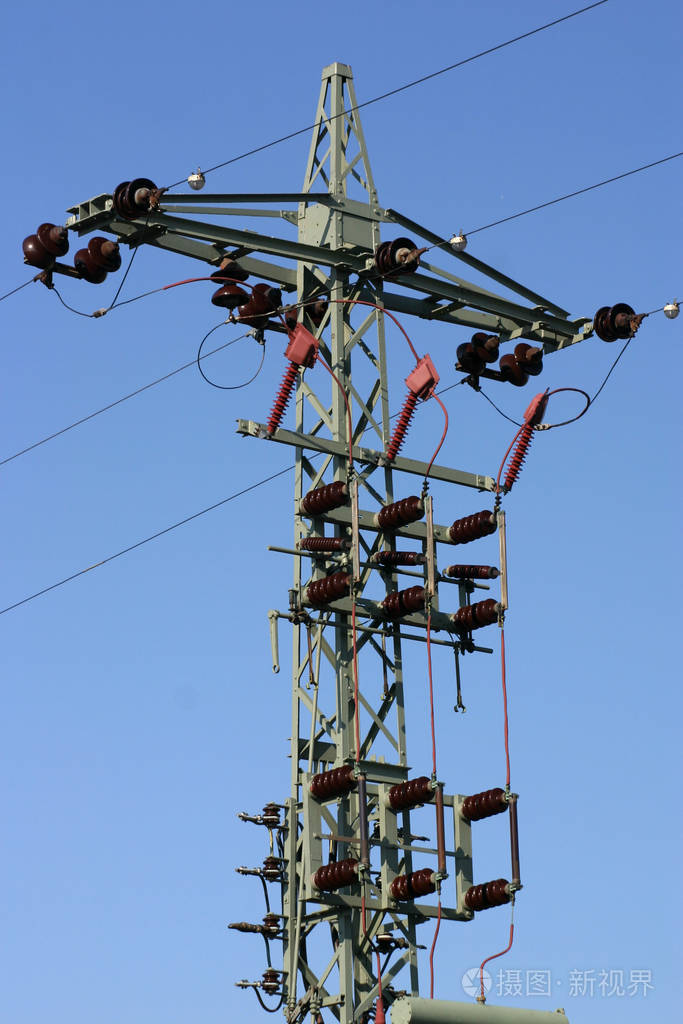insulator: (78, 237, 124, 286), (451, 325, 500, 371), (499, 339, 543, 385), (590, 300, 636, 341), (373, 235, 422, 273), (23, 222, 68, 263), (205, 267, 241, 307), (241, 281, 275, 319)
